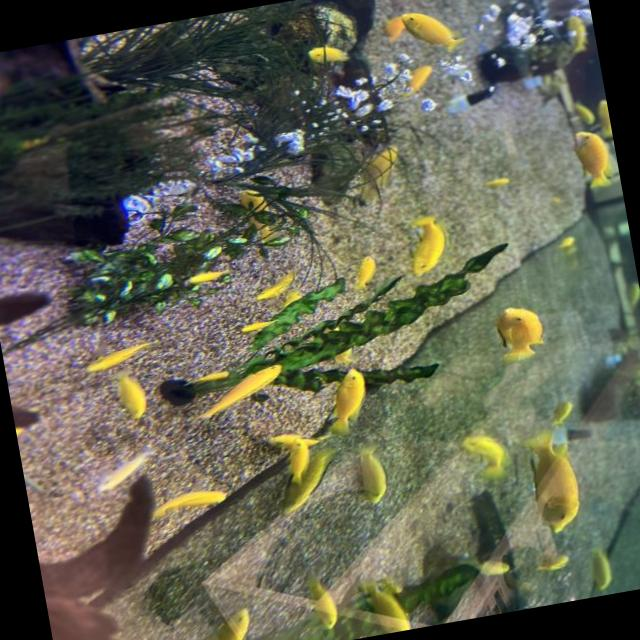YellowCichlid: (190, 353, 305, 429), (478, 294, 564, 371), (522, 432, 586, 534), (134, 483, 235, 528), (313, 367, 375, 438), (361, 568, 423, 636), (231, 182, 281, 260), (166, 602, 268, 640), (402, 1, 464, 63), (262, 470, 338, 520), (448, 424, 512, 482), (346, 443, 401, 508), (566, 120, 612, 197), (82, 336, 157, 383), (286, 576, 343, 635), (556, 2, 600, 68), (166, 360, 239, 398), (398, 229, 456, 276), (109, 378, 151, 438), (173, 262, 243, 296), (578, 544, 618, 596), (613, 366, 640, 442), (537, 395, 588, 430), (358, 152, 399, 195), (244, 271, 295, 303), (526, 542, 570, 576), (346, 255, 384, 294), (462, 555, 518, 581), (302, 38, 348, 66), (394, 65, 438, 94), (564, 95, 599, 129), (476, 169, 516, 198), (549, 228, 581, 262), (230, 316, 274, 340), (596, 92, 613, 142), (285, 438, 307, 474), (541, 187, 567, 216), (407, 209, 436, 230), (382, 14, 403, 41)
